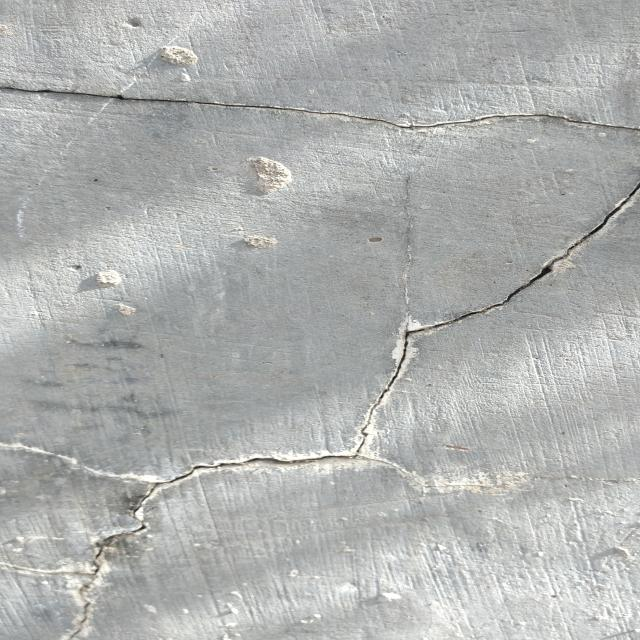Crack: (3, 80, 640, 638)
